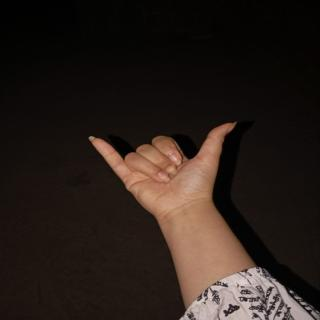YA: (82, 113, 264, 218)
